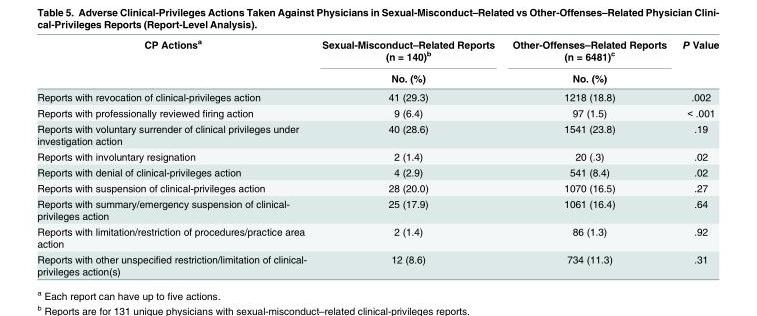table: (36, 36, 718, 276)
table column: (36, 36, 313, 276), (313, 36, 502, 276), (502, 36, 674, 276), (674, 36, 718, 276)
table column header: (36, 36, 718, 87)
table row: (36, 36, 718, 66), (36, 120, 718, 148), (36, 195, 718, 223), (36, 223, 718, 251), (36, 251, 718, 276), (36, 66, 718, 87), (36, 87, 718, 104), (36, 104, 718, 120), (36, 148, 718, 164), (36, 179, 718, 195), (36, 164, 718, 179)
table spanning cell: (36, 36, 313, 87), (313, 36, 502, 87), (502, 36, 674, 87), (674, 36, 718, 87)
